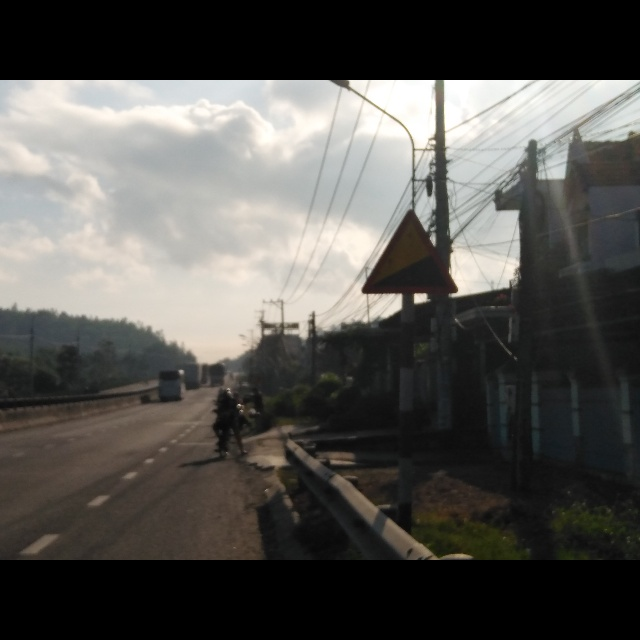Dốc lên nguy hiểm: (359, 208, 458, 296)
